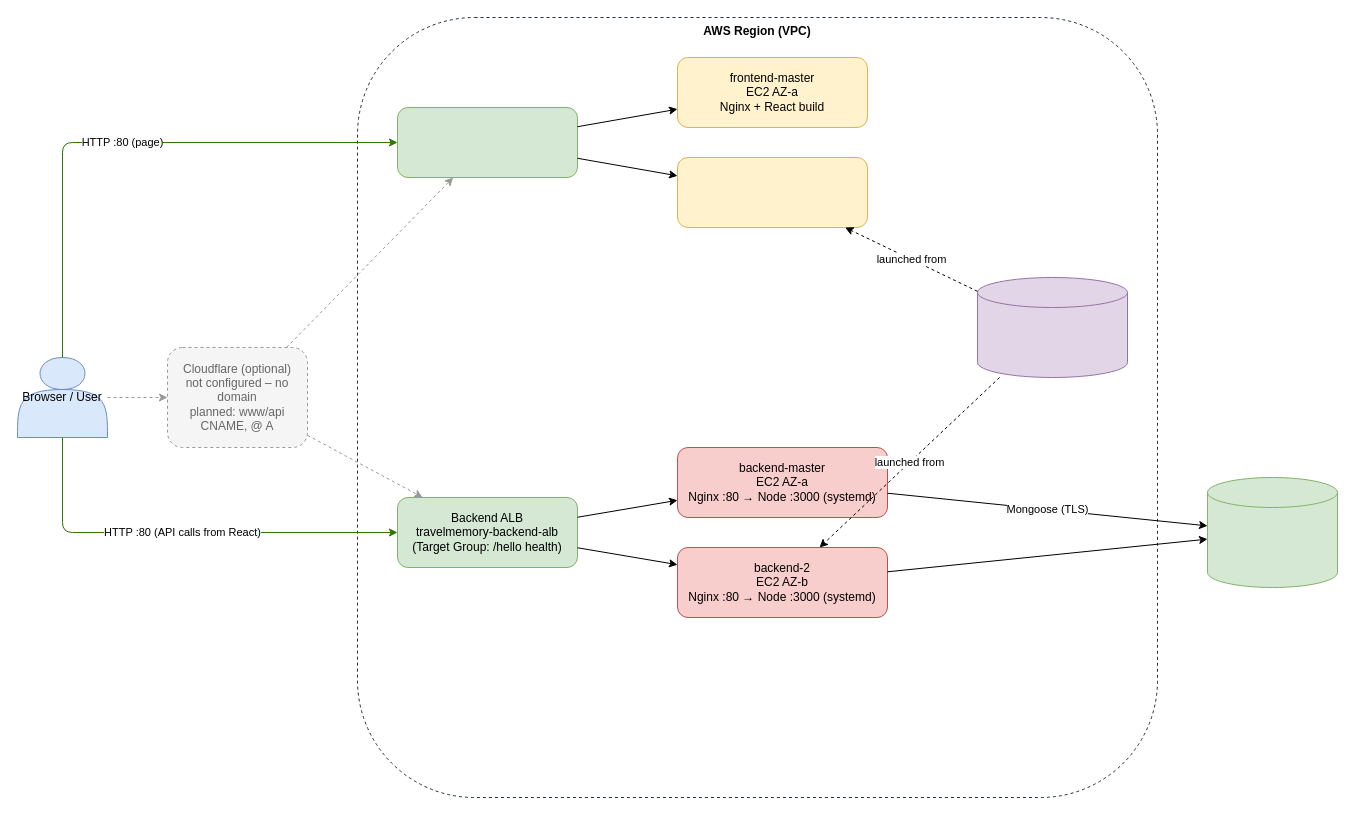
The diagram is 1355 pixels wide and 815 high, and some of its shapes have lost their labels. Each missing label, with the centre of its shape:
AMIs travelmemory-frontend-ami travelmemory-backend-ami: point (1052, 327)
Frontend ALB travelmemory-frontend-alb (Target Group: / health): point (487, 142)
frontend-2 EC2 AZ-b Nginx + React build: point (772, 192)
MongoDB Atlas (travelmemory DB): point (1272, 532)
